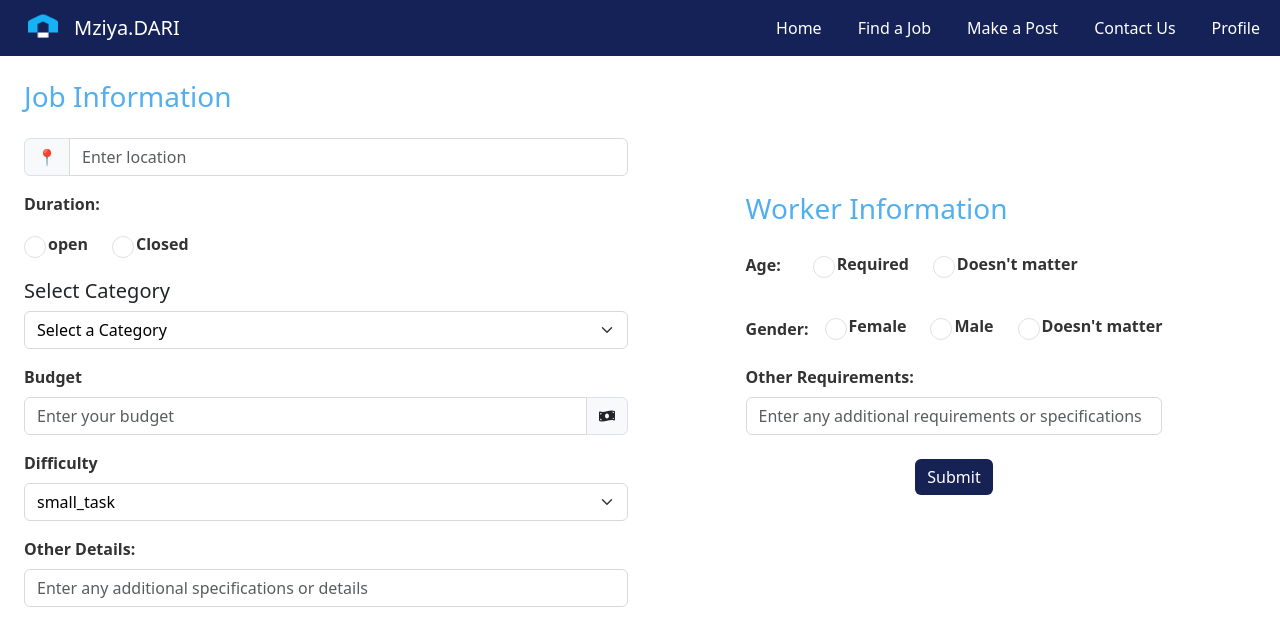
PostingPage UI rendering tests › renders Worker Information and toggles minimum age input based on "Required" radio button
The width and height of the screenshot is (1280, 624).
Expected: the heading "Worker Information" is shown, [746, 188, 1008, 226]
Expected: the radio button with test id "ageDoesntMatterRadio" is shown, [933, 256, 955, 278]
Simulate selecting the "Required" radio button
Click the radio button with test id "ageRequiredRadio" at (824, 267), box [813, 256, 835, 278]
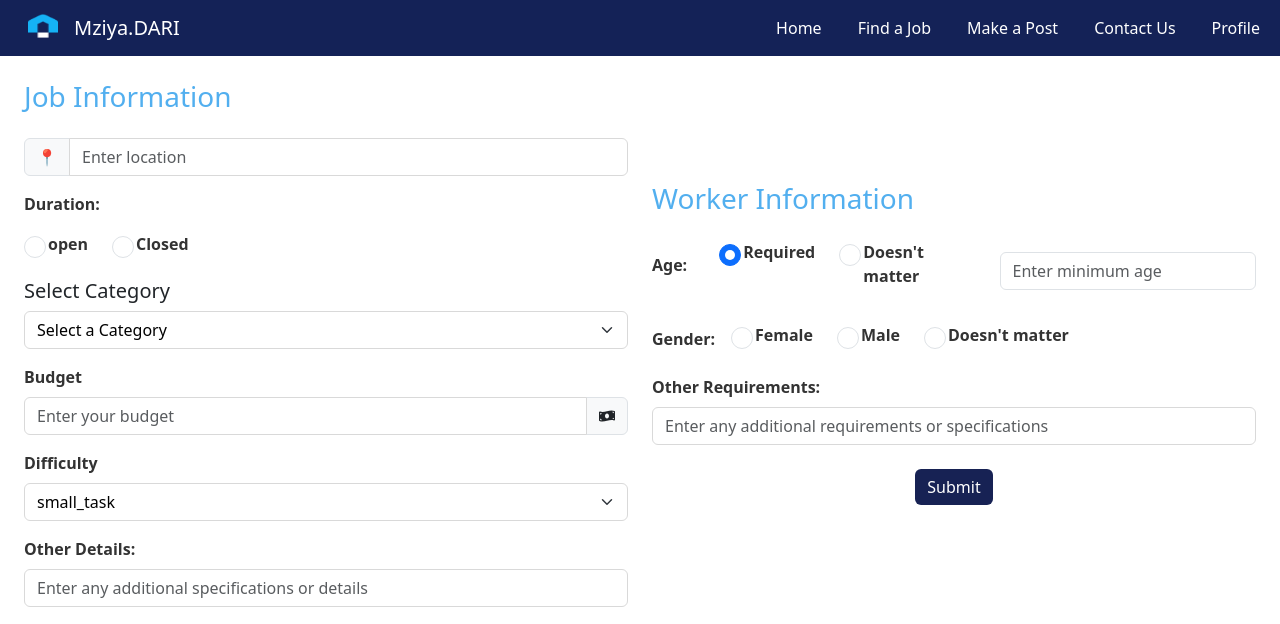
Expected: the number field with test id "ageMinInput" is shown, [1000, 252, 1256, 290]
Simulate selecting the "Doesn't matter" radio button
Click the radio button with test id "ageDoesntMatterRadio" at (850, 255), box [839, 244, 861, 266]
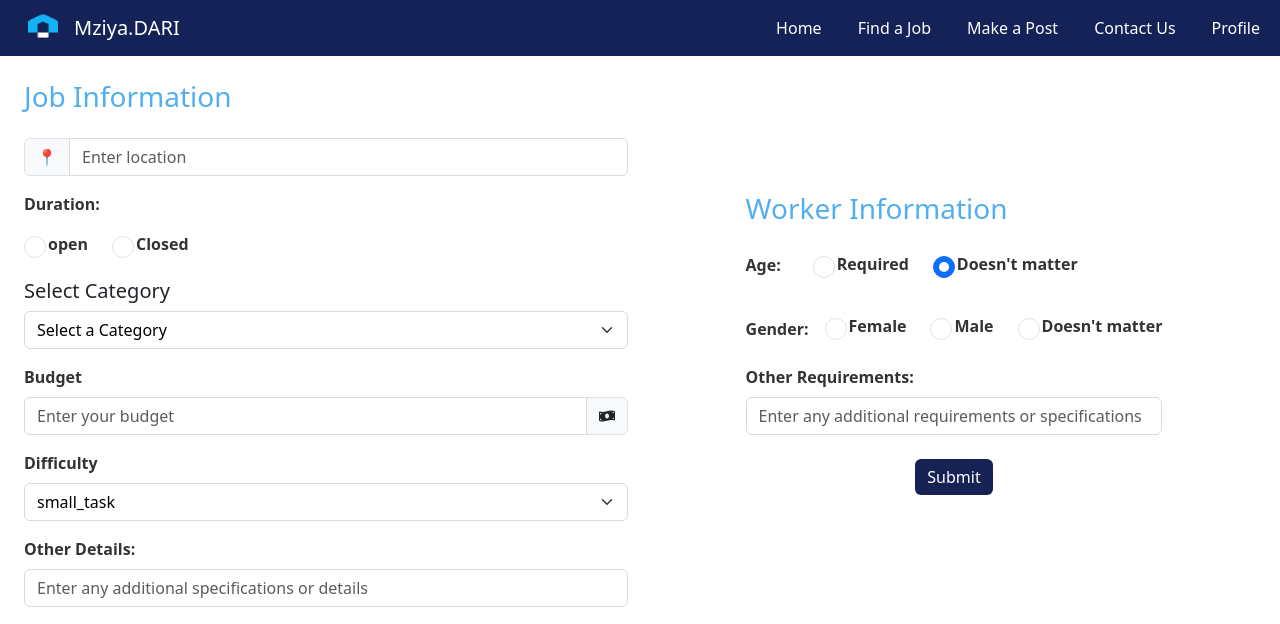
Expected: the number field with test id "ageMinInput" is gone
